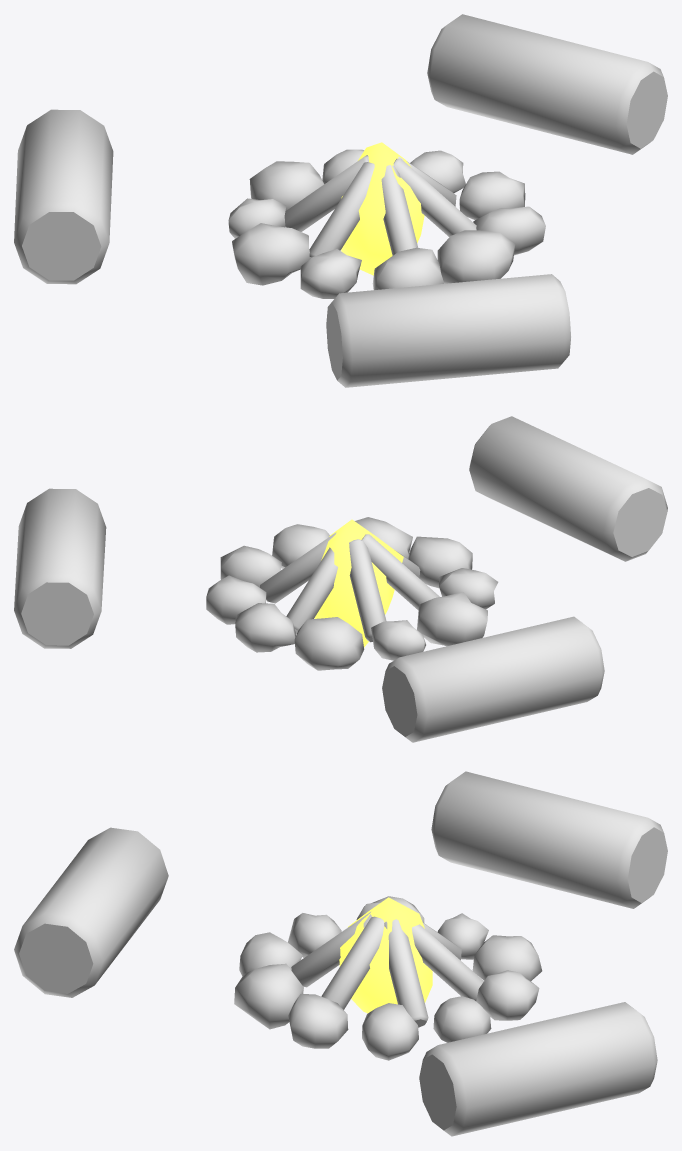
Rendered from Campfire.fbx.
The picture shows the model from 3 angles, top to bottom: view 1: azimuth 30°, elevation 25°; view 2: azimuth 150°, elevation 25°; view 3: azimuth 270°, elevation 25°; orthographic projection. The views are drawn at different scales.
Parts seen in each view (by area): view 1: Campfire__bark, Campfire__stone, Campfire__wood_dark, Campfire__glow_fire; view 2: Campfire__bark, Campfire__stone, Campfire__wood_dark, Campfire__glow_fire; view 3: Campfire__bark, Campfire__stone, Campfire__wood_dark, Campfire__glow_fire.
Part boxes in pixels (x1,y1,x2,y2): Campfire__bark: (14, 14, 667, 387); Campfire__stone: (228, 149, 545, 298); Campfire__wood_dark: (284, 155, 476, 257); Campfire__glow_fire: (341, 142, 424, 275); Campfire__bark: (14, 416, 667, 742); Campfire__stone: (206, 517, 498, 670); Campfire__wood_dark: (260, 532, 439, 642); Campfire__glow_fire: (314, 519, 403, 647); Campfire__bark: (14, 771, 667, 1136); Campfire__stone: (234, 896, 542, 1060); Campfire__wood_dark: (291, 912, 483, 1027); Campfire__glow_fire: (339, 897, 432, 1013).
Bounding box in the file's own units: 14.01 × 2.73 × 12.56.
